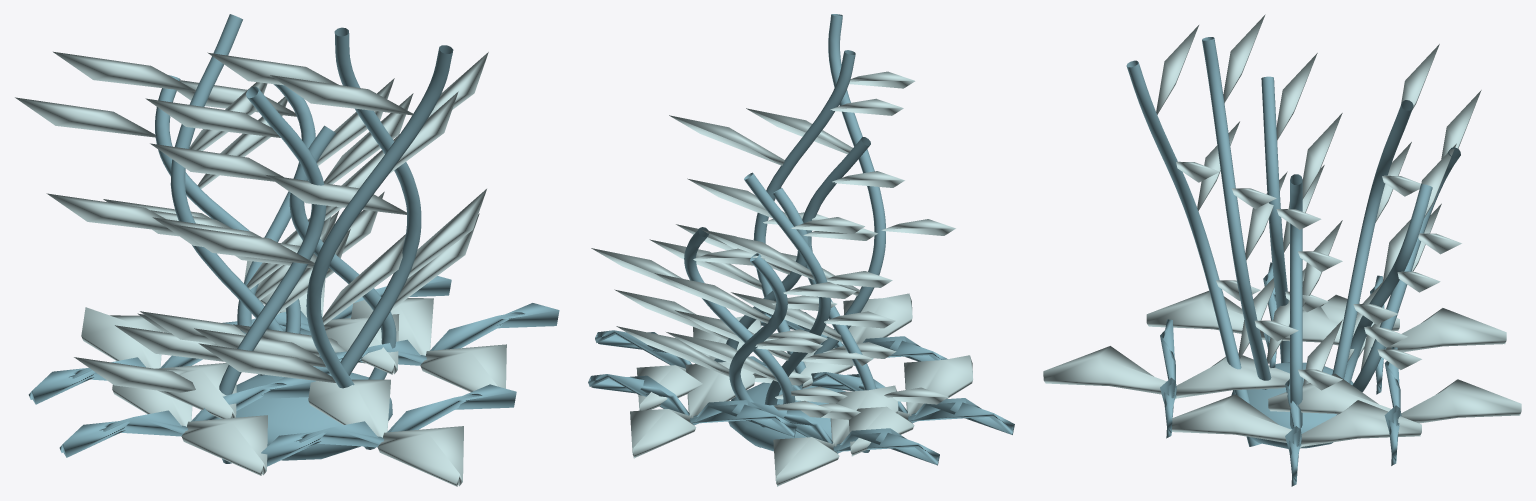
Rendered from bio_aquatic_frond_05_far.glb.
3 renders of one model, left to right at view 1: azimuth 30°, elevation 25°; view 2: azimuth 150°, elevation 25°; view 3: azimuth 270°, elevation 25°, orthographic. The views are drawn at different scales.
Parts seen in each view (by area): view 1: Ruffled aquatic blade.010, Ruffled aquatic blade.025, Ruffled aquatic blade.005, Ruffled aquatic blade.020, Low buttress leaf.009, Flexible stipe.002, Ruffled aquatic blade, Low buttress leaf.001, Low buttress leaf.017, Flexible stipe.005, Ruffled aquatic blade.015, Low buttress leaf.005 (+13 smaller); view 2: Ruffled aquatic blade.030, Ruffled aquatic blade.005, Ruffled aquatic blade.020, Ruffled aquatic blade.025, Low buttress leaf.013, Low buttress leaf.017, Ruffled aquatic blade.015, Low buttress leaf.005, Low buttress leaf.012, Ruffled aquatic blade.010, Flexible stipe.002, Ruffled aquatic blade (+13 smaller); view 3: Low buttress leaf.001, Low buttress leaf.009, Low buttress leaf.013, Flexible stipe.005, Flexible stipe.002, Low buttress leaf.005, Flexible stipe.001, Ruffled aquatic blade, Ruffled aquatic blade.025, Ruffled aquatic blade.010, Flexible stipe.004, Low buttress leaf.017 (+11 smaller).
Part boxes in pixels (<box>): Ruffled aquatic blade.010: <box>172,75,458,382</box>; Ruffled aquatic blade.025: <box>194,52,488,367</box>; Ruffled aquatic blade.005: <box>46,51,331,343</box>; Ruffled aquatic blade.020: <box>74,93,413,392</box>; Low buttress leaf.009: <box>308,379,463,486</box>; Flexible stipe.002: <box>306,45,453,449</box>; Ruffled aquatic blade: <box>150,134,479,363</box>; Low buttress leaf.001: <box>351,298,506,392</box>; Low buttress leaf.017: <box>112,360,267,475</box>; Flexible stipe.005: <box>334,27,421,375</box>; Ruffled aquatic blade.015: <box>115,78,394,361</box>; Low buttress leaf.005: <box>81,307,236,418</box>; Ruffled aquatic blade.030: <box>616,273,856,417</box>; Ruffled aquatic blade.005: <box>675,217,895,403</box>; Ruffled aquatic blade.020: <box>687,171,948,404</box>; Ruffled aquatic blade.025: <box>649,98,903,365</box>; Low buttress leaf.013: <box>630,362,754,458</box>; Low buttress leaf.017: <box>849,355,973,456</box>; Ruffled aquatic blade.015: <box>591,248,860,419</box>; Low buttress leaf.005: <box>773,385,898,486</box>; Low buttress leaf.012: <box>588,374,796,437</box>; Ruffled aquatic blade.010: <box>746,71,955,358</box>; Flexible stipe.002: <box>813,14,885,354</box>; Ruffled aquatic blade: <box>614,224,877,385</box>; Low buttress leaf.001: <box>1172,394,1421,447</box>; Low buttress leaf.009: <box>1043,346,1289,399</box>; Low buttress leaf.013: <box>1268,373,1521,423</box>; Flexible stipe.005: <box>1202,37,1271,389</box>; Flexible stipe.002: <box>1126,60,1261,446</box>; Low buttress leaf.005: <box>1259,304,1506,351</box>; Flexible stipe.001: <box>1332,100,1413,379</box>; Ruffled aquatic blade: <box>1298,113,1342,390</box>; Ruffled aquatic blade.025: <box>1223,14,1303,363</box>; Ruffled aquatic blade.010: <box>1156,25,1274,358</box>; Flexible stipe.004: <box>1261,76,1289,363</box>; Low buttress leaf.017: <box>1146,291,1399,333</box>.
Bounding box in the file's own units: 2.22 × 1.89 × 2.09.
